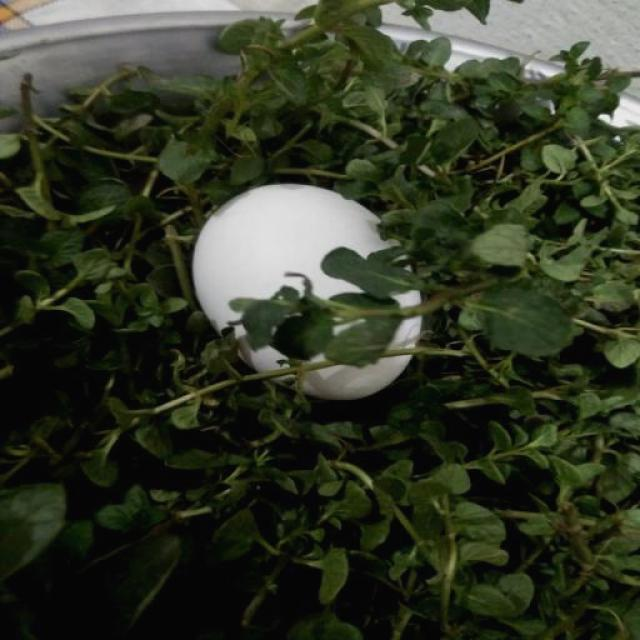telur: (186, 173, 429, 404)
